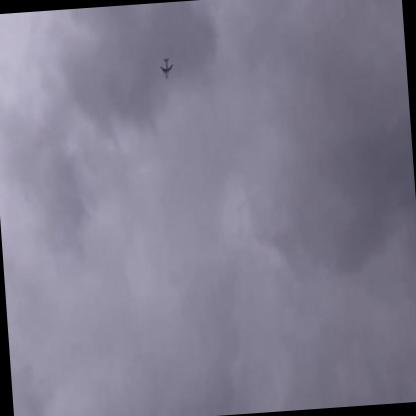plane: (158, 57, 175, 82)
